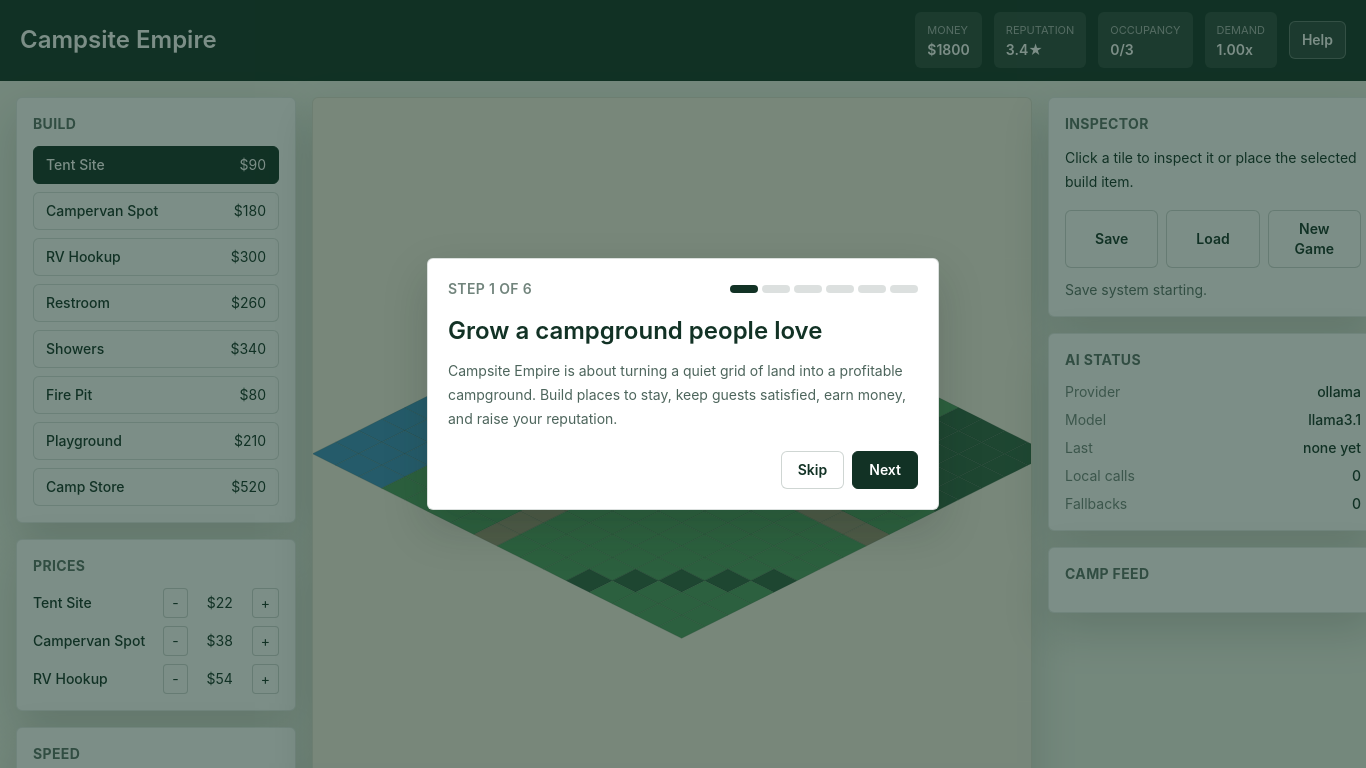
Test: App UI › persists skipped tutorial state and does not reopen automatically
Check: the dialog "Grow a campground people love" is shown, box [427,258,939,510]
Click the button "Skip".
click(813, 470)  # box [781,451,844,489]
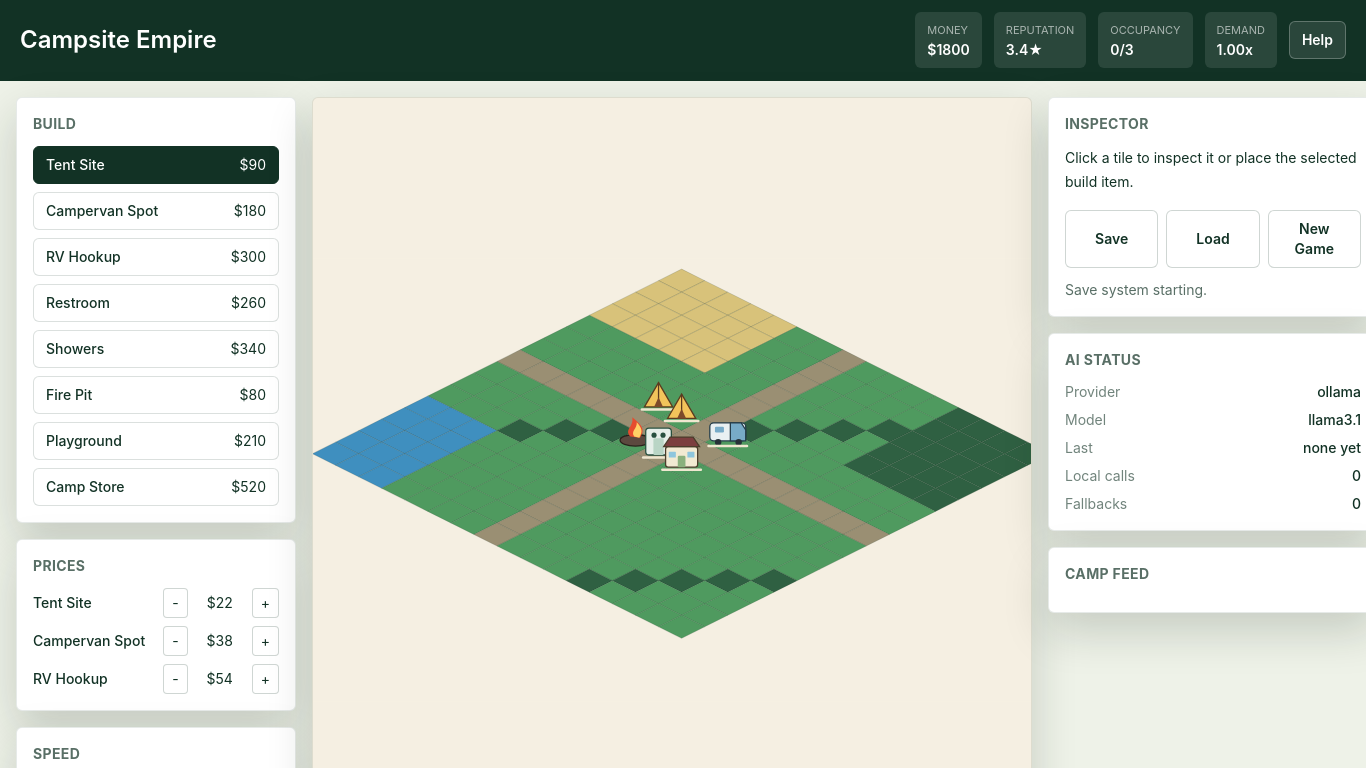
Check: the dialog is gone
